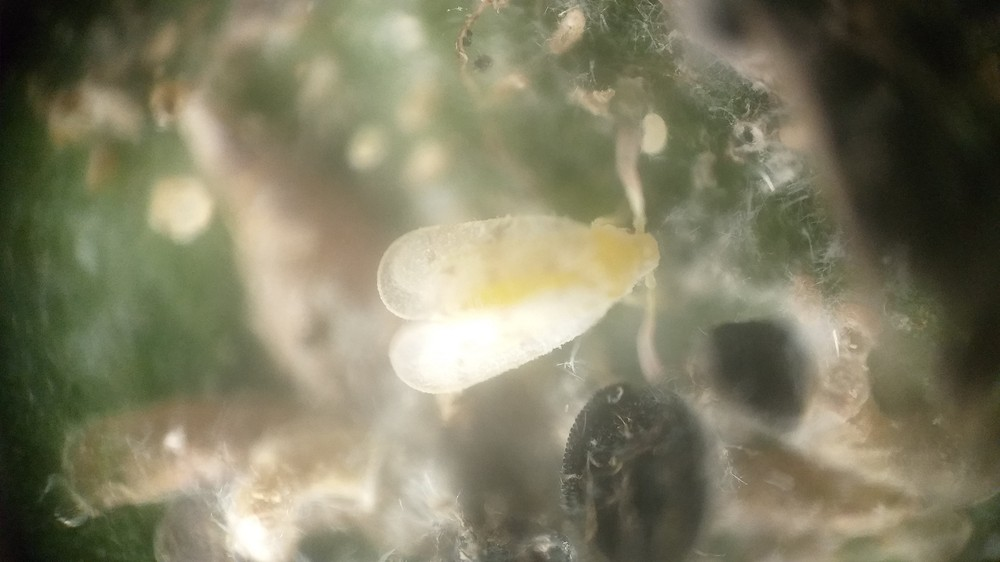Mosca Blanca: (358, 125, 684, 423)
